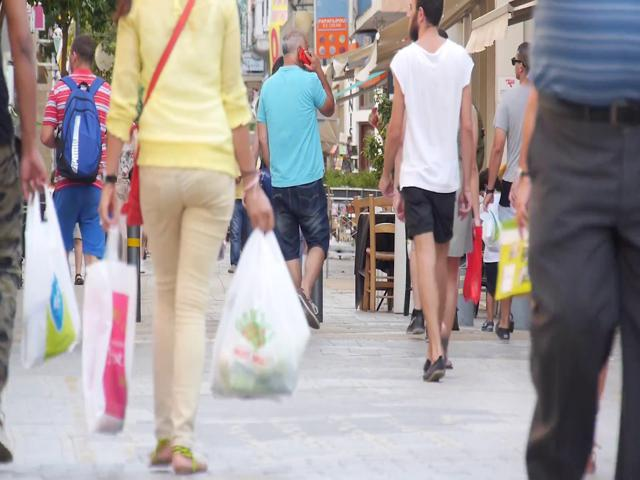shoe: (171, 446, 208, 473), (422, 358, 445, 382)
